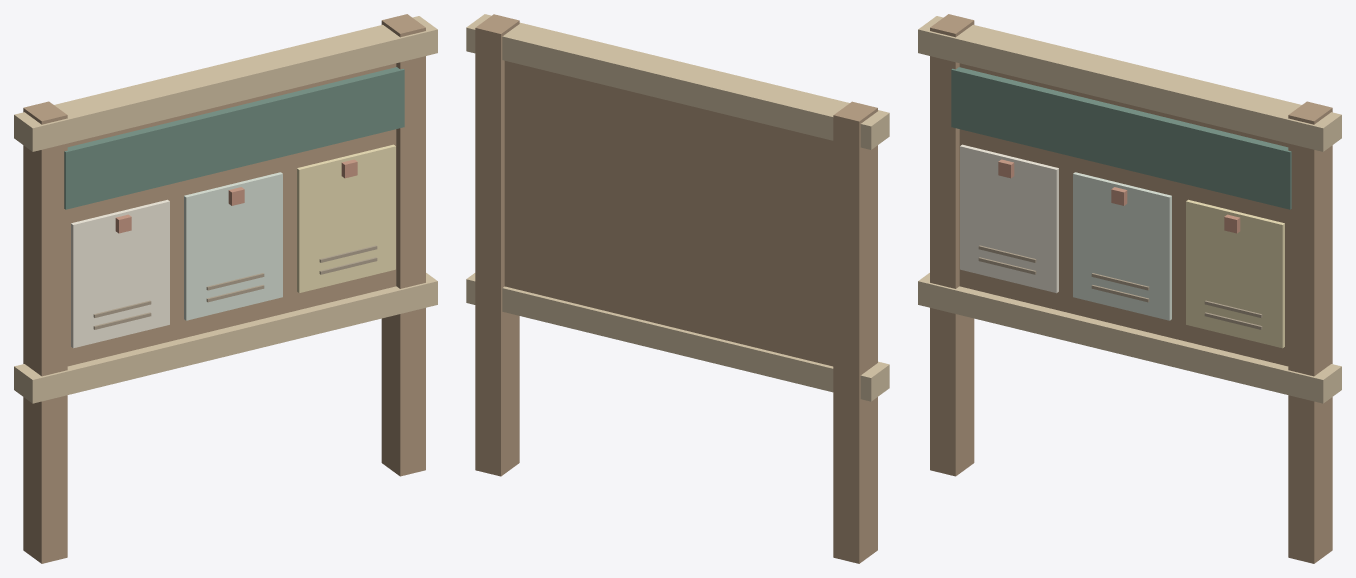
Rendered from trade_board.glb.
3 renders of one model, left to right at view 1: azimuth 30°, elevation 25°; view 2: azimuth 150°, elevation 25°; view 3: azimuth 330°, elevation 25°, orthographic.
Parts seen in each view (by area): view 1: Header, Post, Frame.001, Board, Post.001, Frame, Note.001, Note, Note.002; view 2: Board, Post, Post.001, Frame.001, Frame; view 3: Header, Post.001, Frame.001, Board, Post, Frame, Note.001, Note.002, Note.
Boxes of the visible parts, <box> form: Header: <box>64,67,404,209</box>; Post: <box>23,101,67,563</box>; Frame.001: <box>14,16,437,151</box>; Board: <box>67,63,396,366</box>; Post.001: <box>381,14,425,476</box>; Frame: <box>14,273,437,403</box>; Note.001: <box>184,172,282,320</box>; Note: <box>71,199,169,348</box>; Note.002: <box>297,144,395,293</box>; Board: <box>504,61,833,366</box>; Post: <box>833,101,877,563</box>; Post.001: <box>475,14,519,476</box>; Frame.001: <box>466,14,889,149</box>; Frame: <box>466,273,889,401</box>; Header: <box>951,67,1291,209</box>; Post.001: <box>1288,101,1332,563</box>; Frame.001: <box>918,16,1341,151</box>; Board: <box>959,63,1288,366</box>; Post: <box>930,14,974,476</box>; Frame: <box>918,273,1341,403</box>; Note.001: <box>1073,172,1171,320</box>; Note.002: <box>1186,199,1284,348</box>; Note: <box>960,144,1058,293</box>.
Size of the model in its own units: 2.51 by 2.62 by 0.2475.
